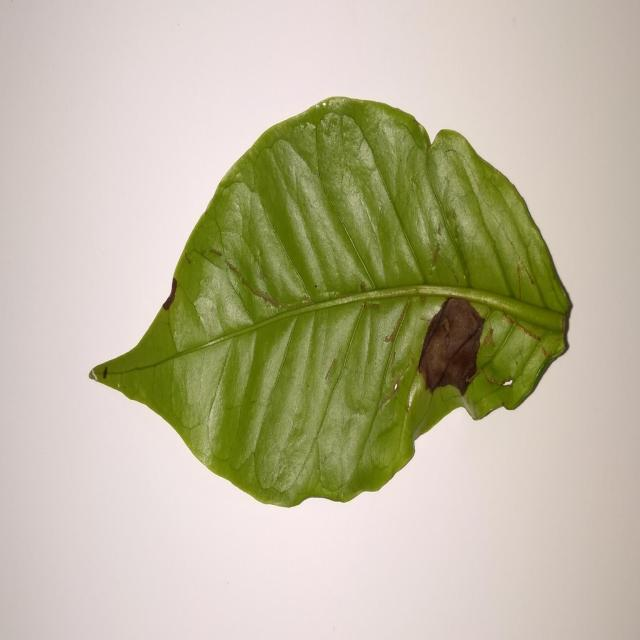Enfermedad-Antracnosis: (87, 96, 573, 511)
